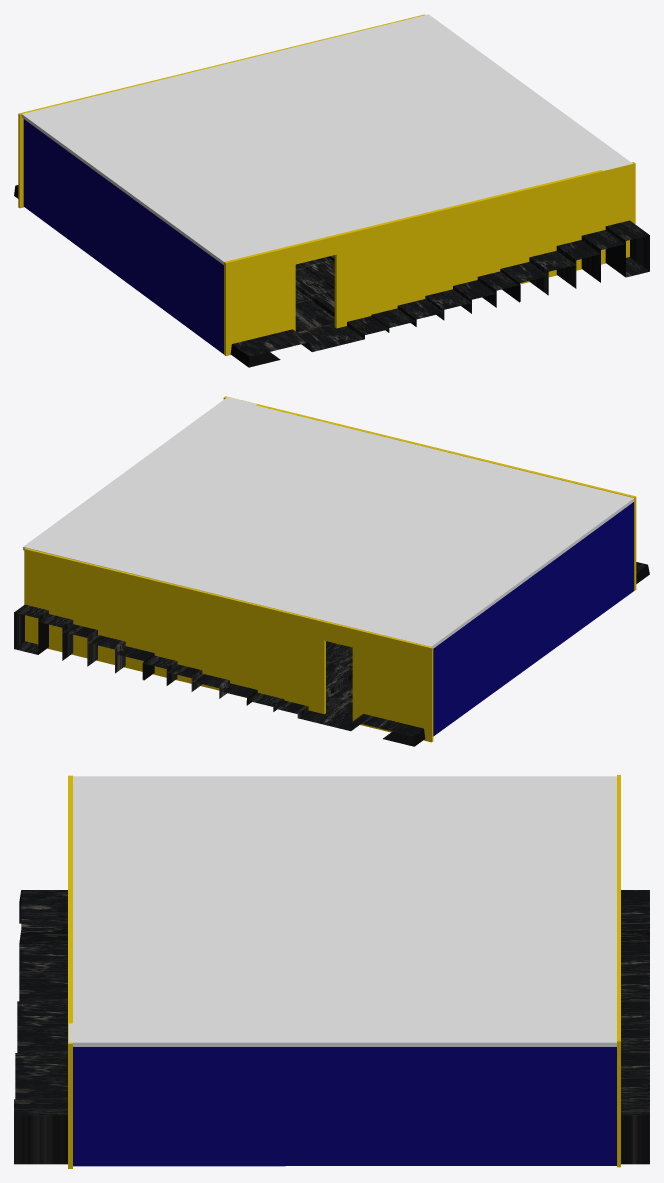
The model's file is LA ROOM 1142.fbx.
The picture shows the model from 3 angles, top to bottom: view 1: azimuth 30°, elevation 25°; view 2: azimuth 150°, elevation 25°; view 3: azimuth 270°, elevation 25°; orthographic projection. The views are drawn at different scales.
Parts seen in each view (by area): view 1: Plane.001, LA_floor; view 2: Plane.001, LA_floor; view 3: Plane.001, LA_floor.
Boxes of the visible parts, box(x1,y1,x2,y2) form: Plane.001: box(18, 14, 635, 355); LA_floor: box(14, 185, 649, 367); Plane.001: box(23, 396, 636, 742); LA_floor: box(14, 562, 649, 746); Plane.001: box(68, 775, 620, 1168); LA_floor: box(14, 890, 649, 1164).
Bounding box in the file's own units: 29670 × 6491 × 29567.
